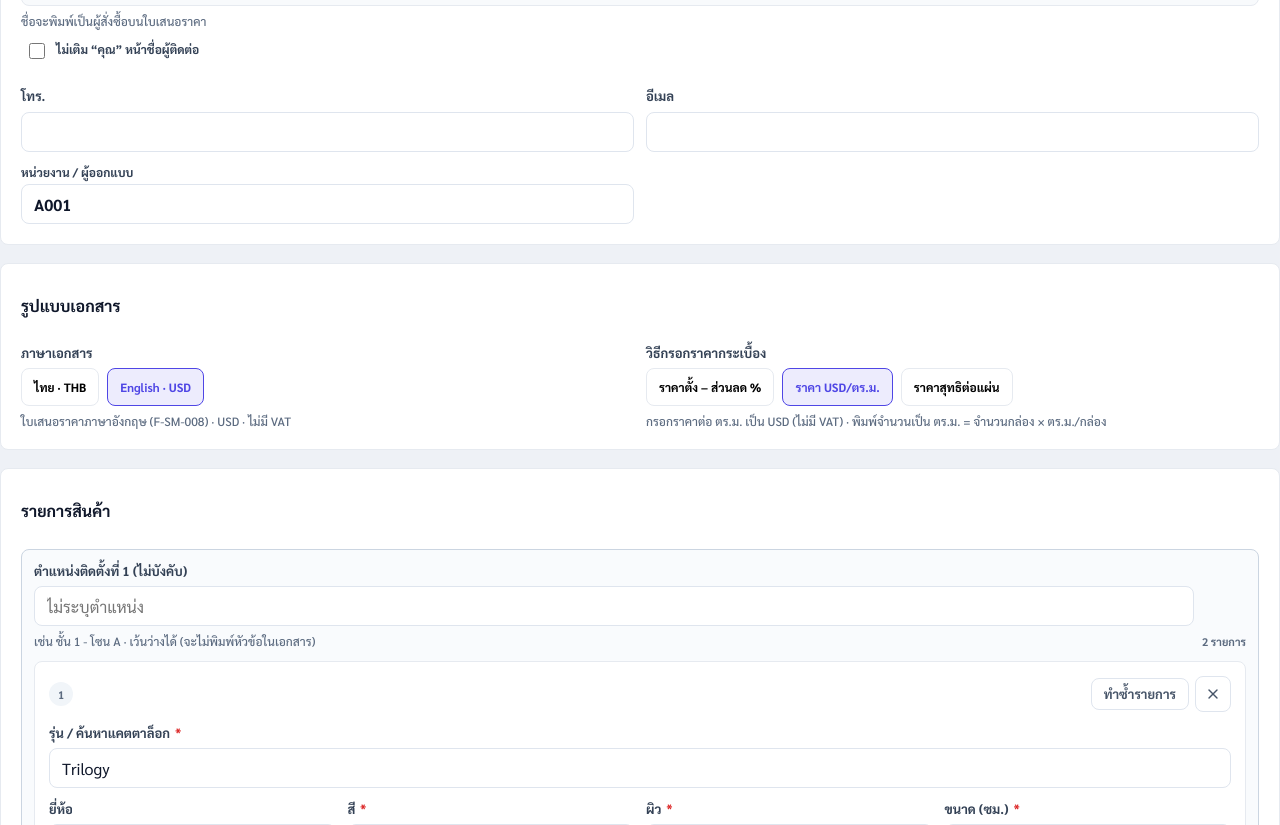
Test: v3/v3b document settings › a SAVED English per-sqm draft switched to Thai clears EVERY price — the USD/sqm 64 appears nowhere — and keeps %, quantities and box figures
(page scrolled)
Click the button "ไทย · THB". click: (60, 387)
box: top-left (21, 368), bottom-right (99, 406)
(page scrolled)
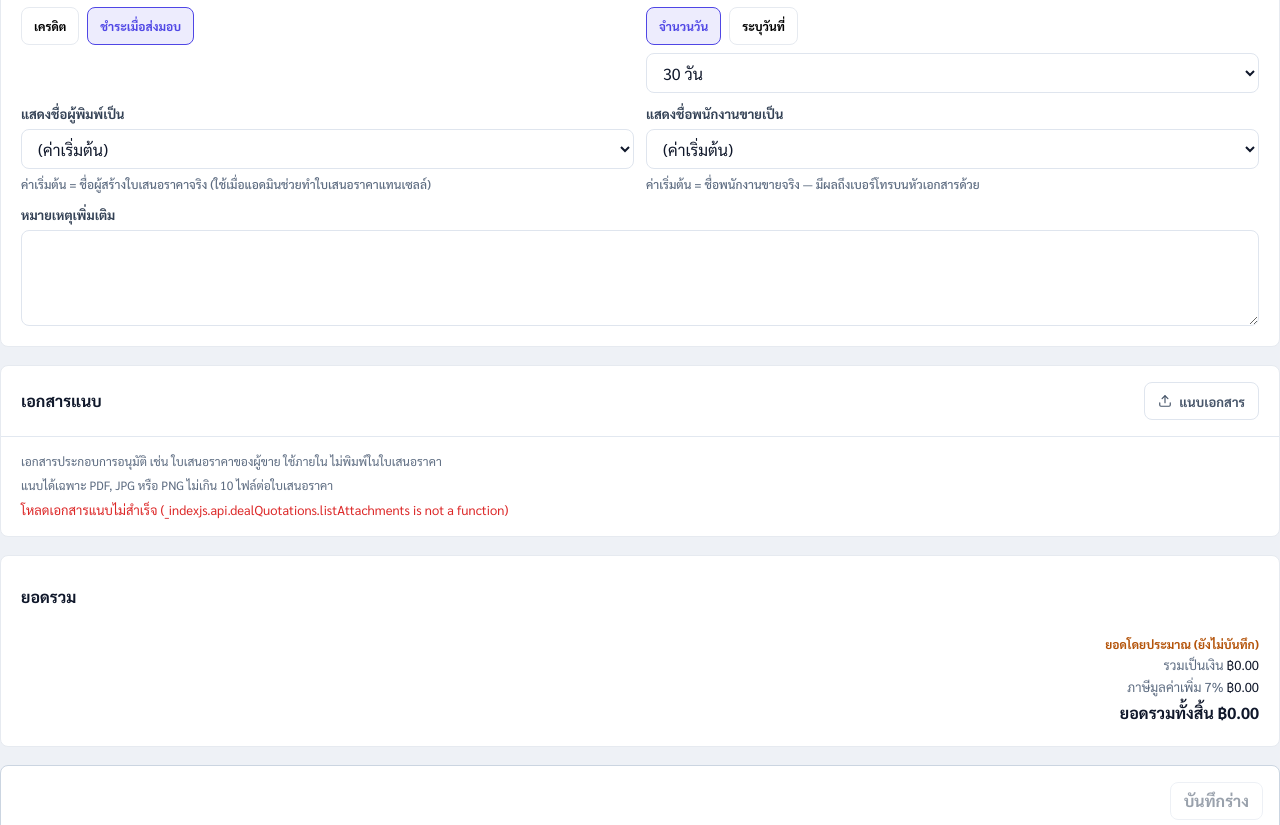
Check: the button "บันทึกร่าง" is disabled, box top-left (1170, 782), bottom-right (1263, 820)
